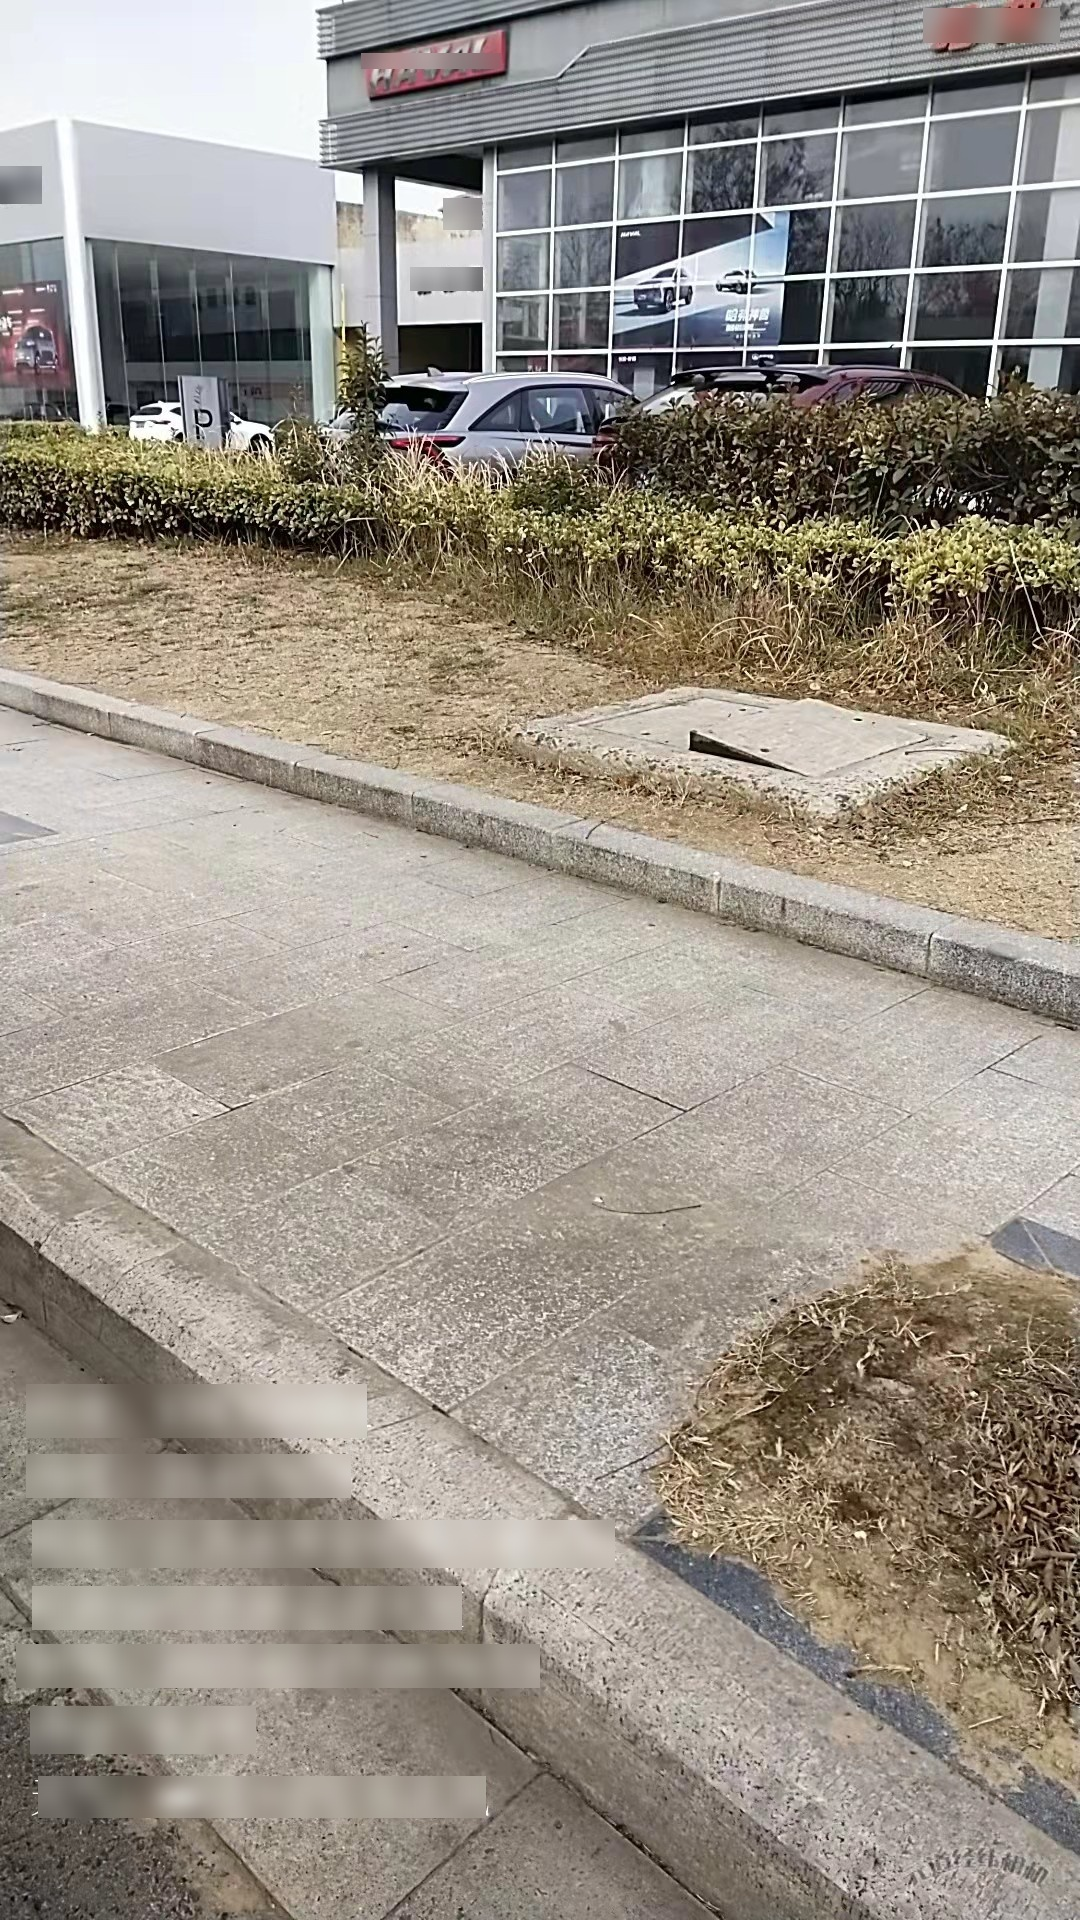uncovered: (520, 684, 1009, 818)
